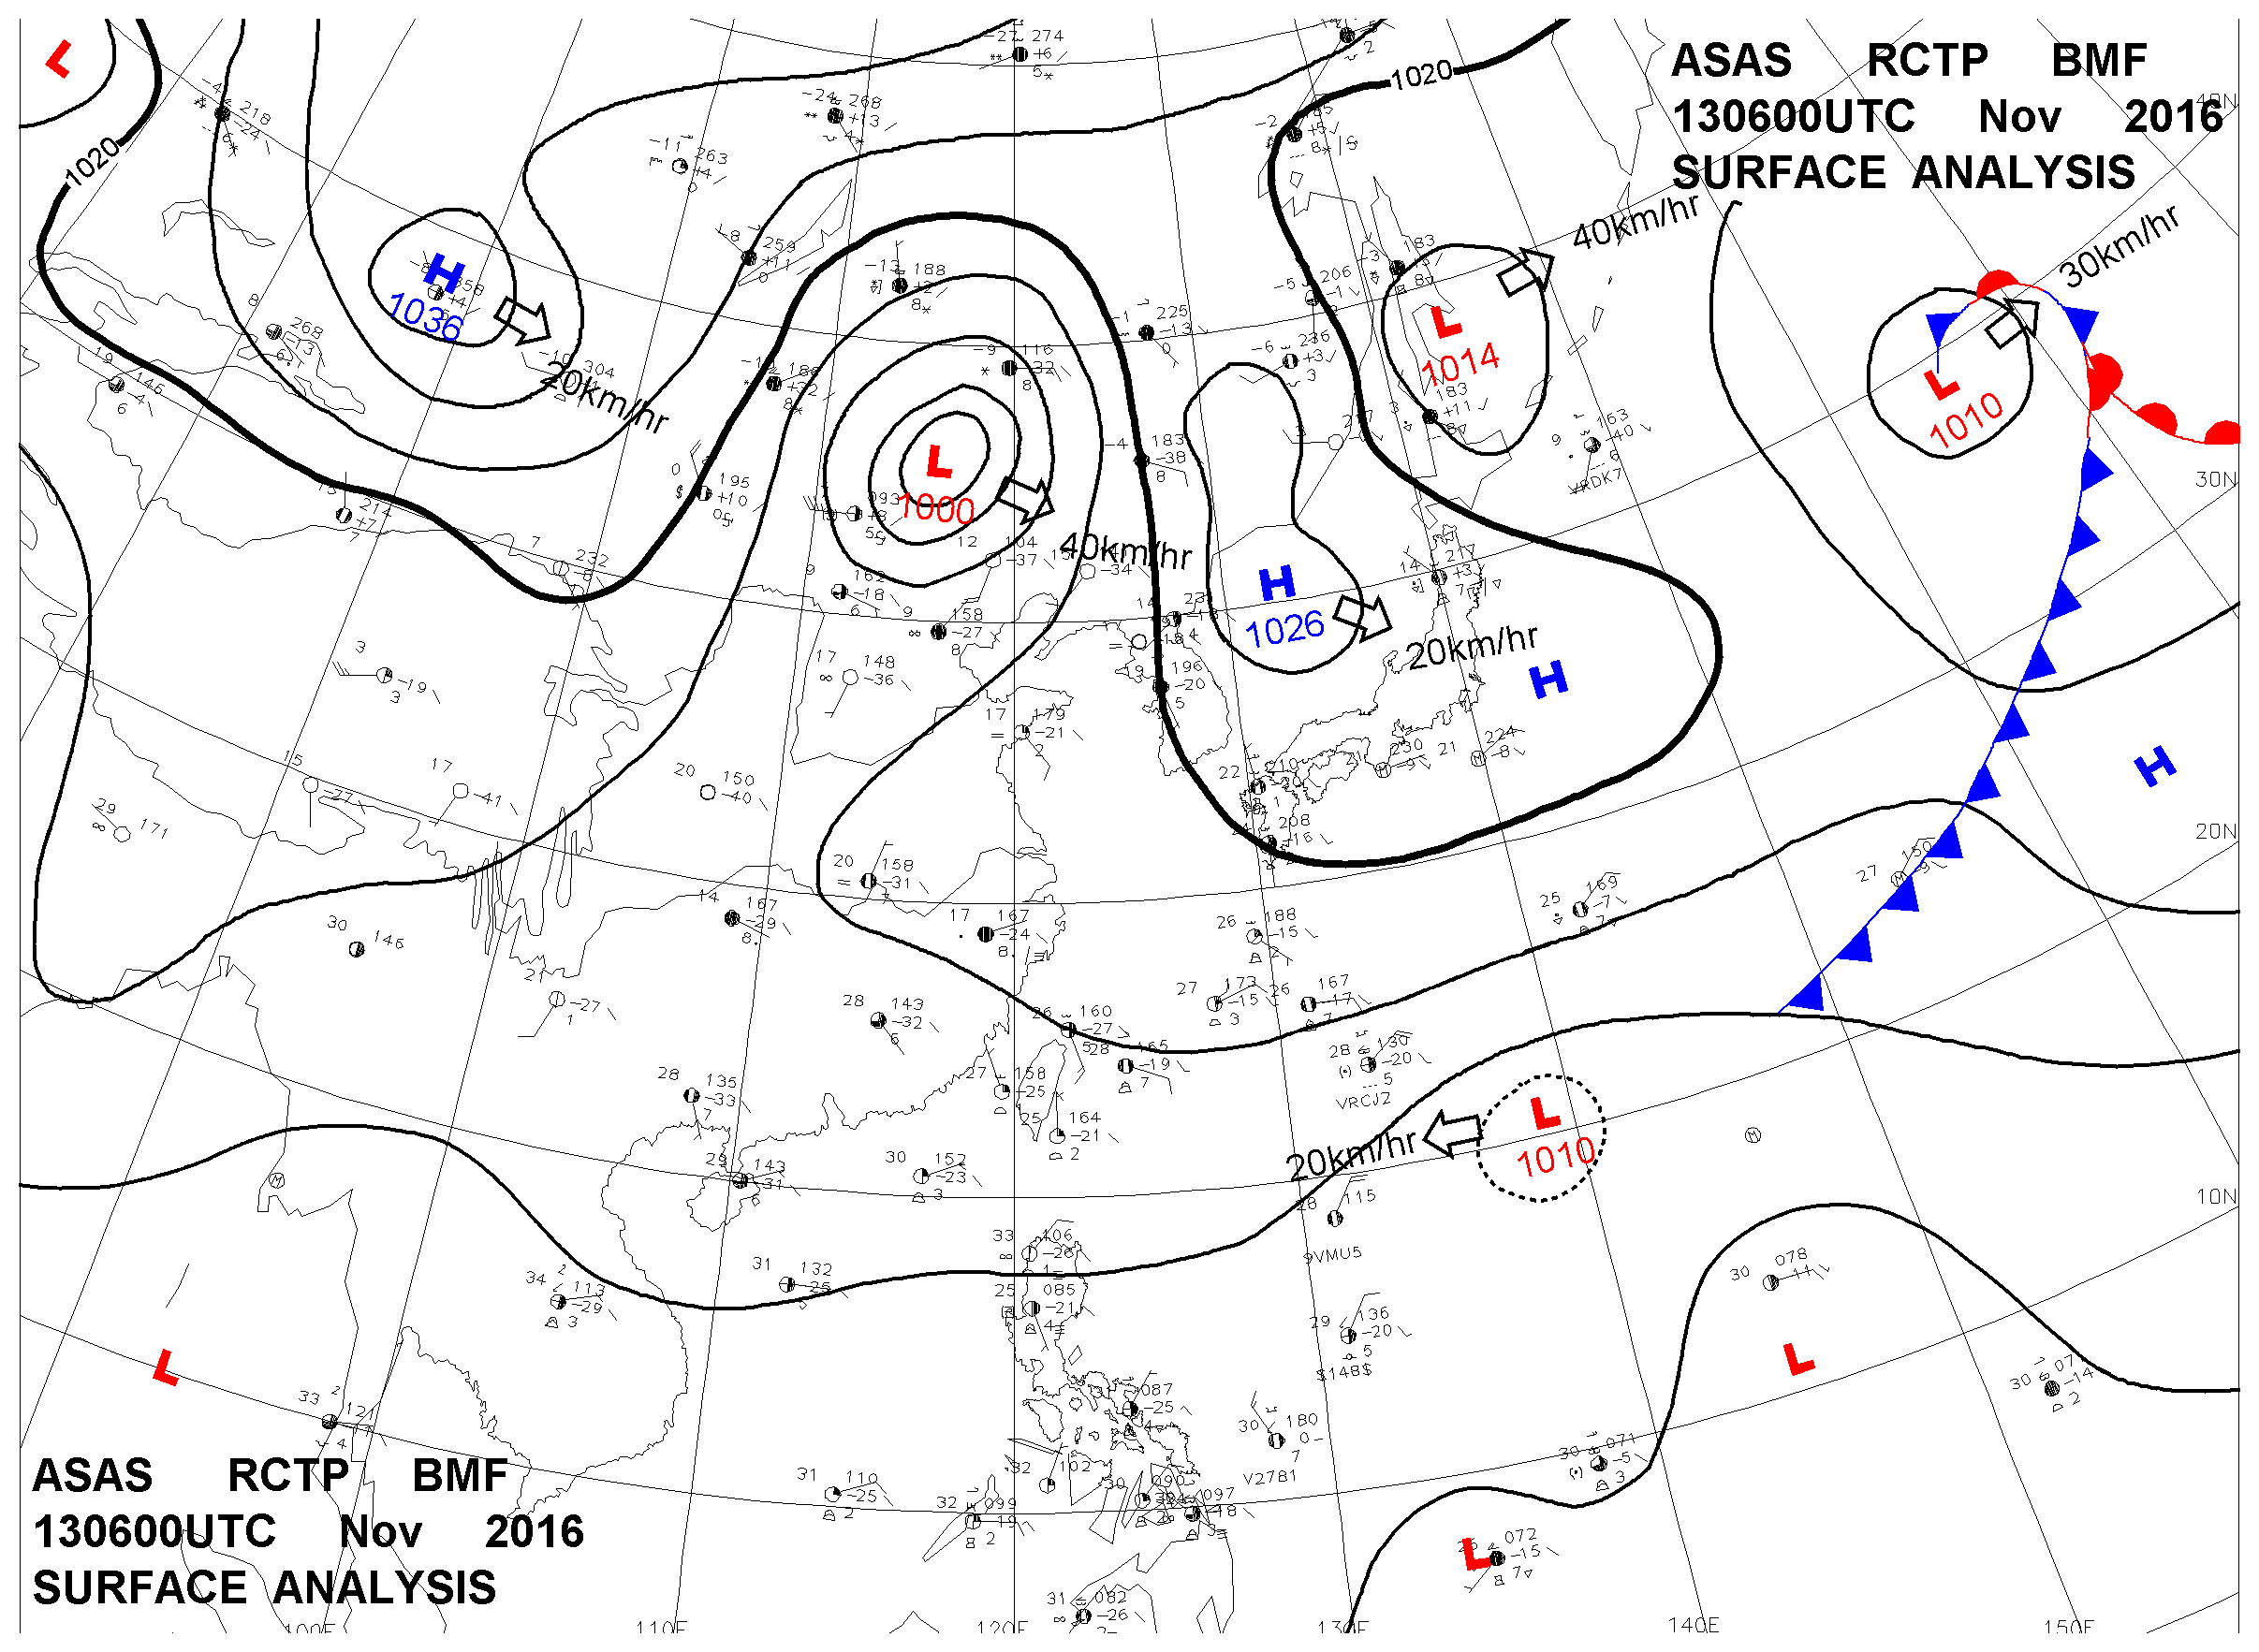H: (370, 230, 491, 351), (1229, 551, 1347, 668), (2117, 721, 2212, 815), (1508, 637, 1591, 721)
L: (1491, 1068, 1610, 1187), (879, 424, 993, 538), (1401, 282, 1512, 393), (1913, 344, 2022, 454), (1438, 1510, 1529, 1601), (1763, 1324, 1843, 1405), (28, 25, 103, 102), (128, 1331, 198, 1401)
cold_front: (2047, 438, 2164, 554), (1959, 700, 2070, 810), (1785, 905, 1896, 1015), (1991, 575, 2096, 679), (1877, 821, 1971, 915)
stationary_front: (2056, 293, 2152, 389), (1917, 249, 2013, 344)
warm_front: (2138, 365, 2259, 484)
